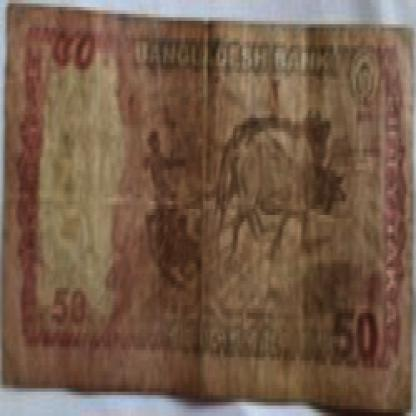Fifty taka: (325, 305, 386, 374), (46, 24, 102, 83)
